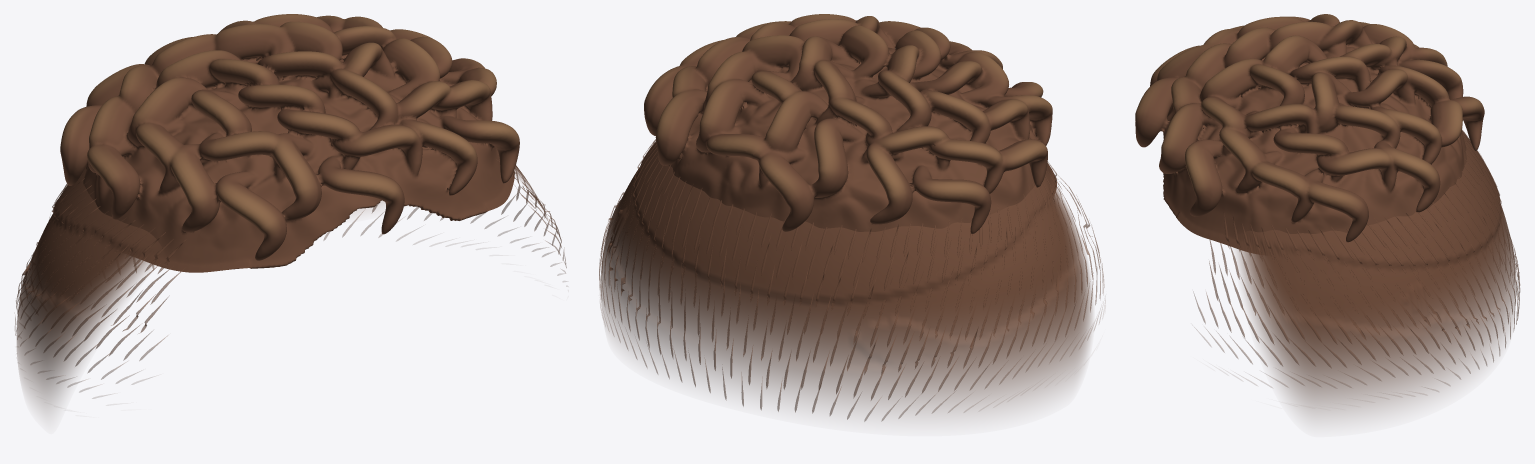
The model's file is Masculine-curly-top-headband259-hair-ombre.glb.
The picture shows the model from 3 angles, left to right: view 1: azimuth 30°, elevation 25°; view 2: azimuth 150°, elevation 25°; view 3: azimuth 270°, elevation 25°; orthographic projection. The views are drawn at different scales.
Parts seen in each view (by area): view 1: 226 hair / Hair252 / sculpted curl groups, 226 hair / Hair258 / smooth side fade, 226 hair / Hair259 / directional fade marks214; view 2: 226 hair / Hair258 / smooth side fade, 226 hair / Hair252 / sculpted curl groups, 226 hair / Hair259 / directional fade marks214; view 3: 226 hair / Hair252 / sculpted curl groups, 226 hair / Hair258 / smooth side fade, 226 hair / Hair259 / directional fade marks214.
Boxes of the visible parts, x1,y1,x2,y2 form: 226 hair / Hair252 / sculpted curl groups: [60, 14, 519, 272]; 226 hair / Hair258 / smooth side fade: [16, 164, 546, 411]; 226 hair / Hair259 / directional fade marks214: [15, 154, 567, 398]; 226 hair / Hair258 / smooth side fade: [601, 141, 1092, 415]; 226 hair / Hair252 / sculpted curl groups: [644, 14, 1056, 233]; 226 hair / Hair259 / directional fade marks214: [599, 139, 1105, 421]; 226 hair / Hair252 / sculpted curl groups: [1135, 14, 1484, 253]; 226 hair / Hair258 / smooth side fade: [1235, 131, 1516, 418]; 226 hair / Hair259 / directional fade marks214: [1194, 129, 1520, 394].
Bounding box in the file's own units: 0.9743 × 0.665 × 0.7572.
